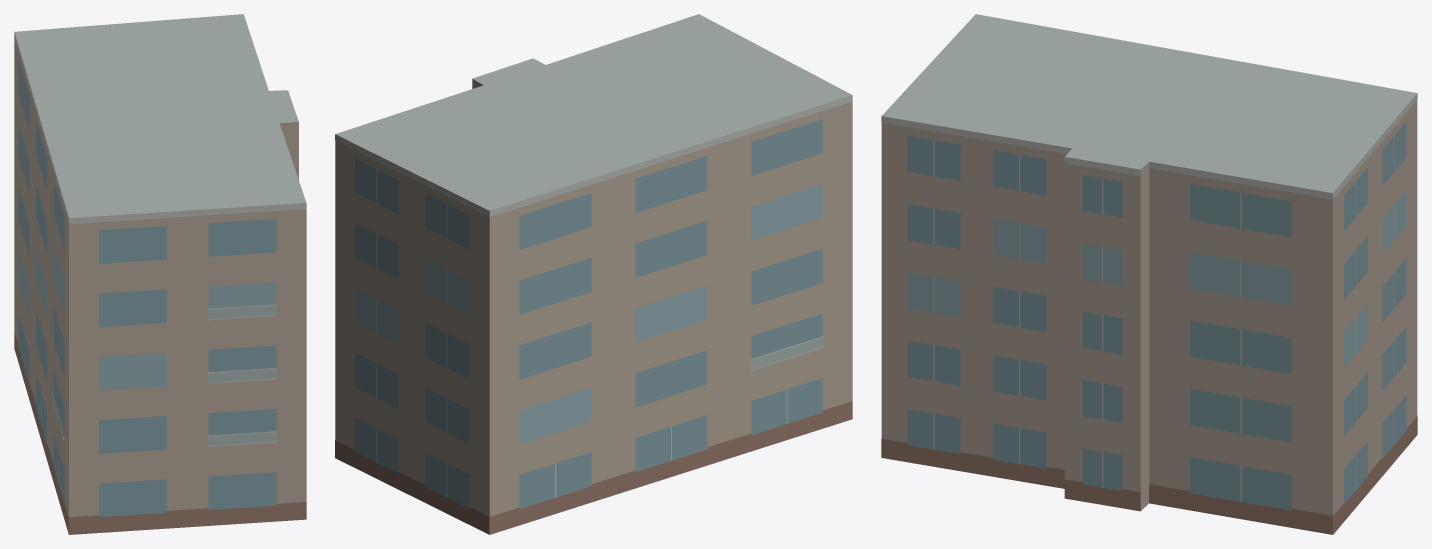
File: survey-upis-32876101.glb
3 views of the same model, side by side, from view 1: azimuth 30°, elevation 25°; view 2: azimuth 150°, elevation 25°; view 3: azimuth 270°, elevation 25° (orthographic). The views are drawn at different scales.
Parts seen in each view (by area): view 1: survey-upis-32876101.tmp; view 2: survey-upis-32876101.tmp; view 3: survey-upis-32876101.tmp.
Boxes of the visible parts, x1,y1,x2,y2 form: survey-upis-32876101.tmp: (14,14,306,534); survey-upis-32876101.tmp: (335,14,852,534); survey-upis-32876101.tmp: (881,14,1417,534).
Bounding box in the file's own units: 14.18 × 12.6 × 17.92.
